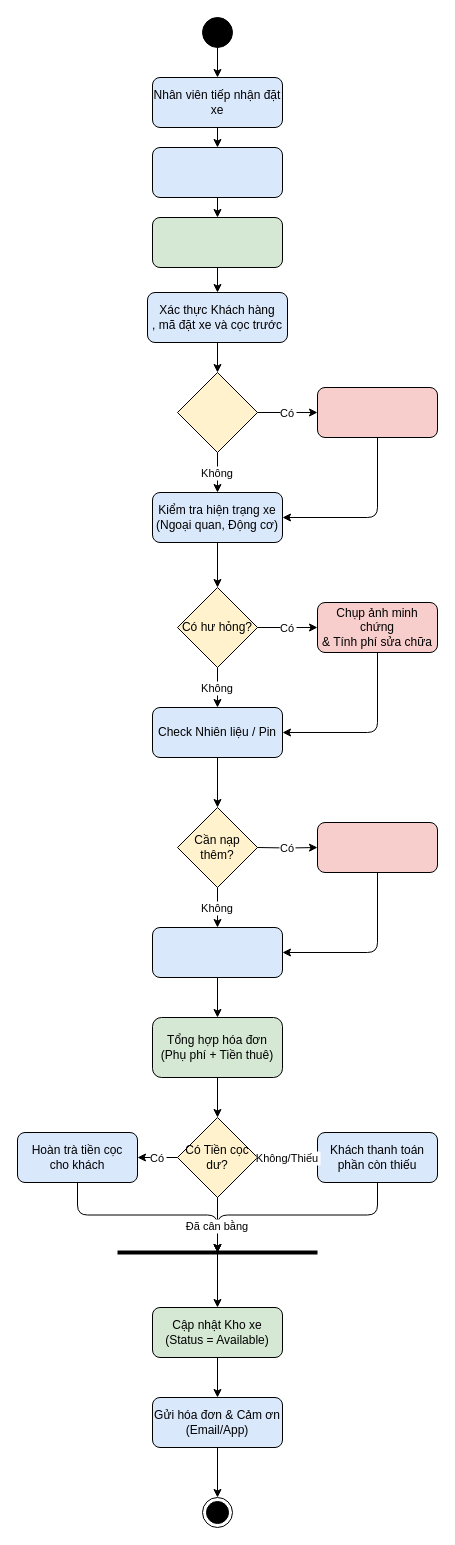
The diagram is 455 pixels wide and 1545 high, and some of its shapes have lost their labels. The shapes that lost their labels are listed below. From the top down, each one's centre as x and y in pixels, then its label:
At point 217,172: "Ghi nhận Odometer & Chốt booking".
At point 217,242: "Cập nhật Inventory (Status = unavailable )".
At point 217,412: "Trả xe trễ?".
At point 377,412: "Tính phí trả chậm (quá giờ/ngày)".
At point 377,847: "Tính phí nạp nhiên liệu".
At point 217,952: "Ghi nhận Odometer (Chốt số km mới)".
